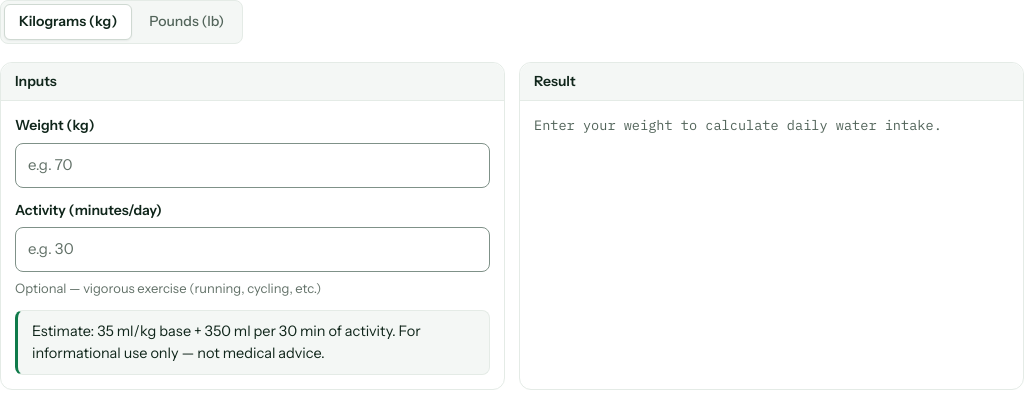
Test: WaterIntake › switches to lb: 154 lb → ~70 kg → 2450 ml
This screenshot has width=1024, height=407.
Click the tab "Pounds (lb)" at [187, 22], box [134, 4, 239, 40]
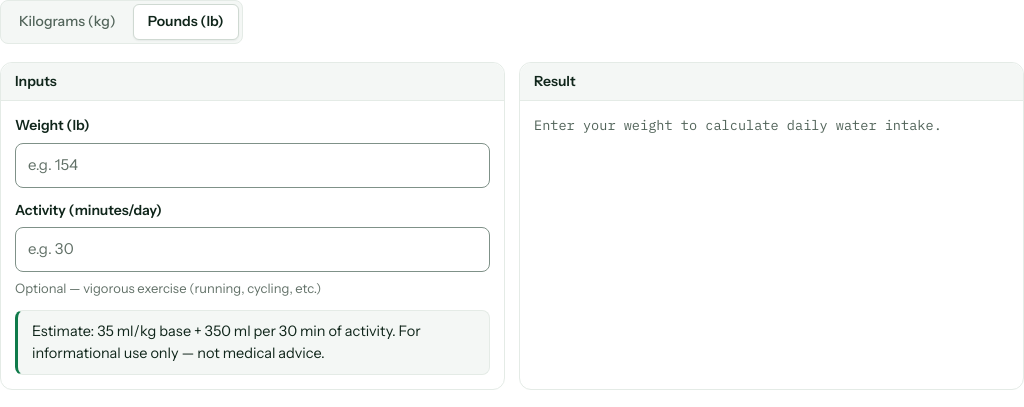
Type "154" into the number field with placeholder "e.g. 154" at [252, 165], box [15, 143, 490, 188]
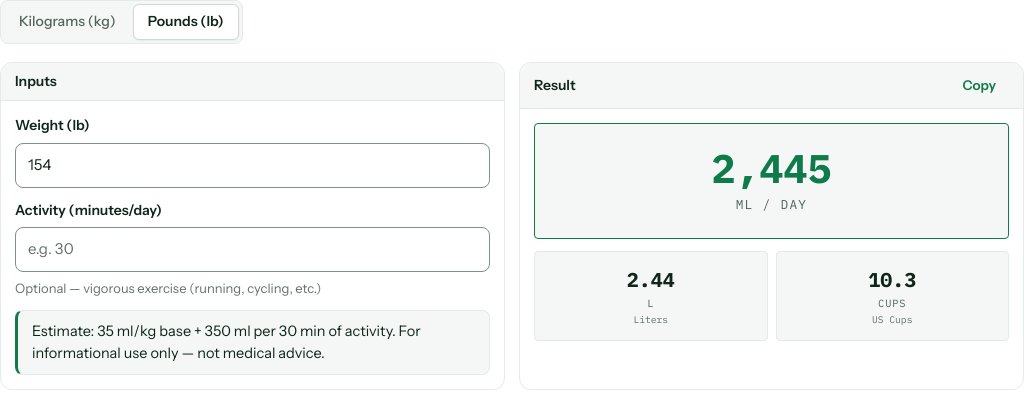
Now the text "2,445" is shown, box [712, 148, 832, 188]
